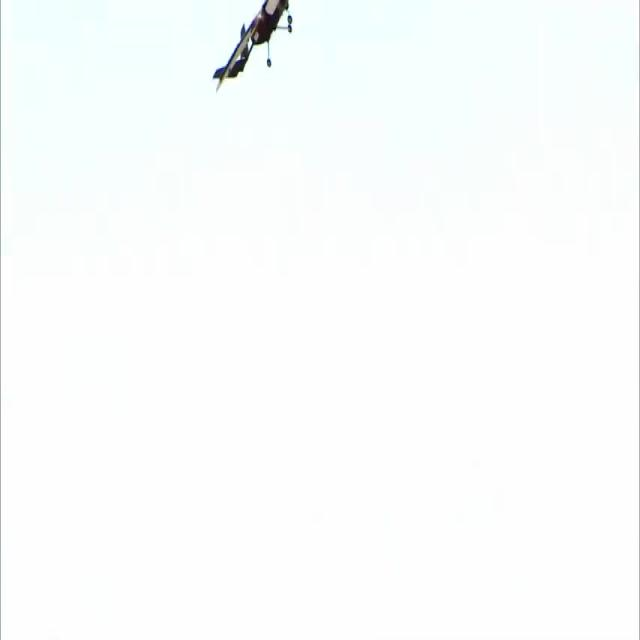iha: (244, 32, 262, 65)
